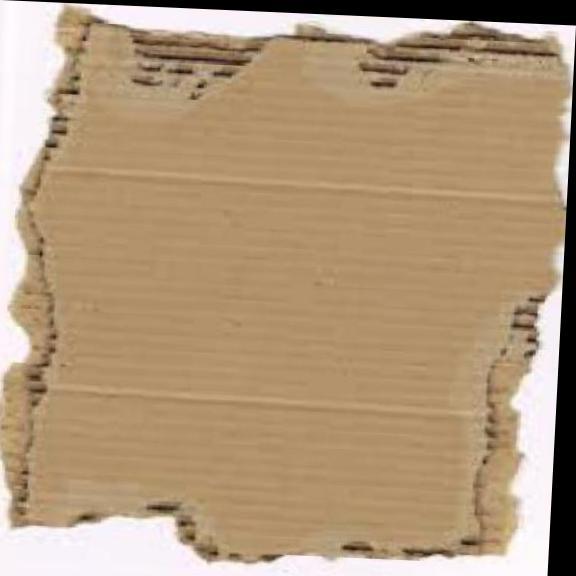Kertas: (0, 9, 567, 560)
